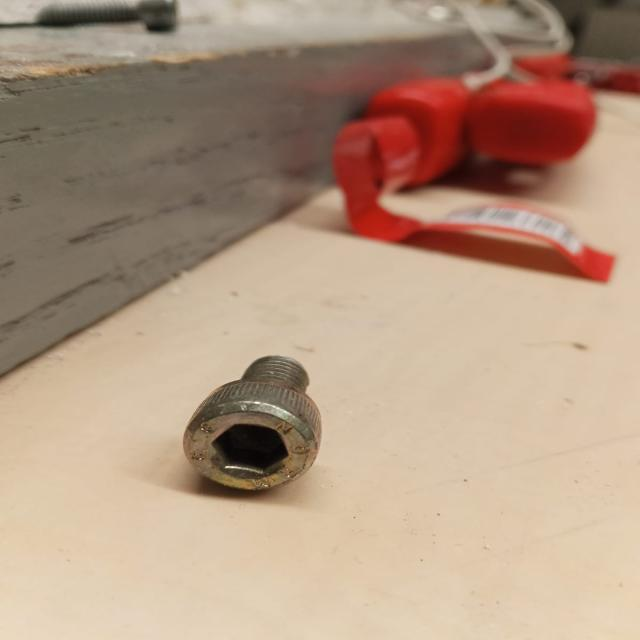allen: (184, 404, 315, 496)
